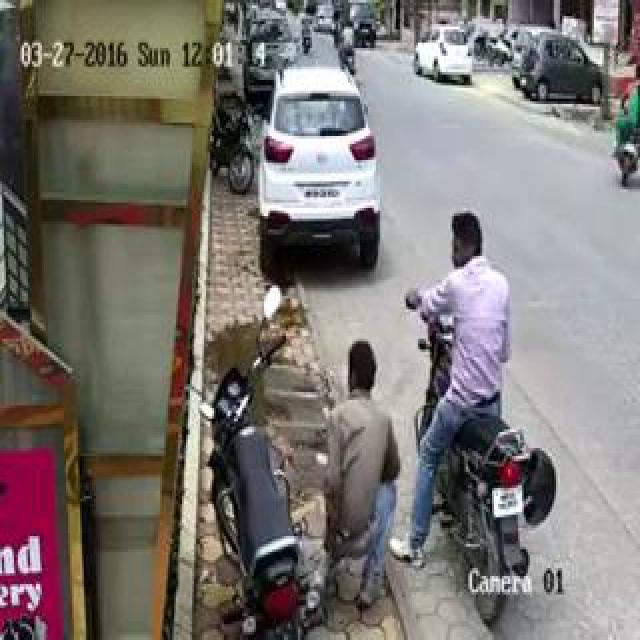stealing: (188, 43, 576, 611)
